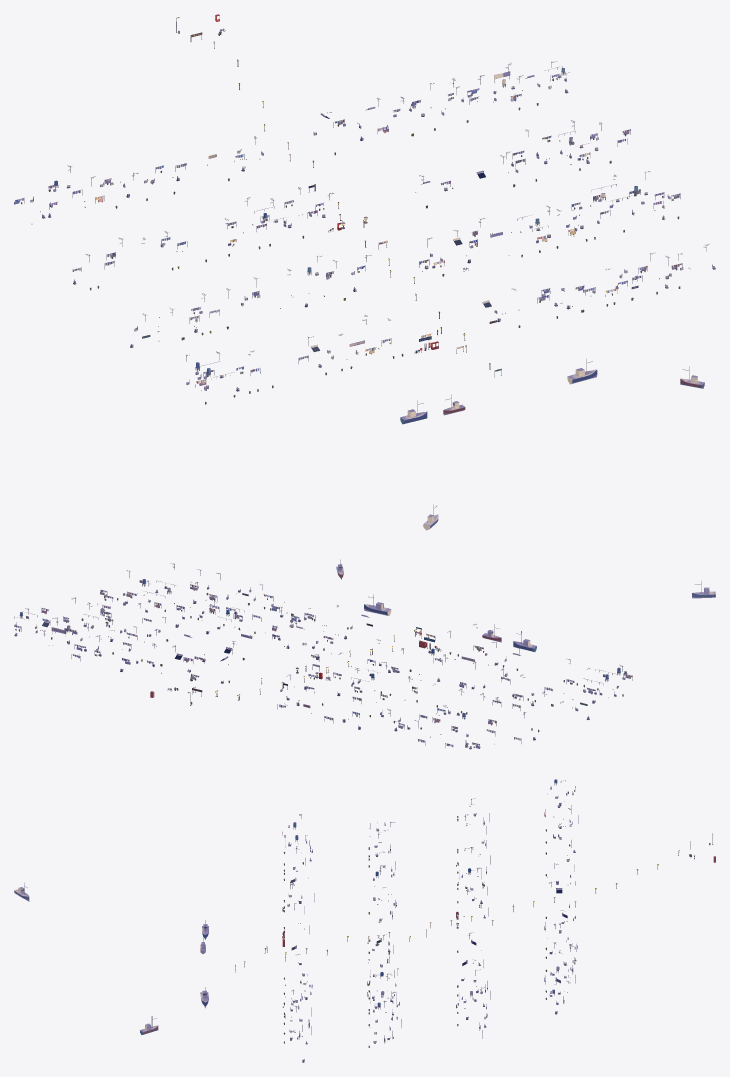
File: props.glb
The picture shows the model from 3 angles, top to bottom: view 1: azimuth 30°, elevation 25°; view 2: azimuth 150°, elevation 25°; view 3: azimuth 270°, elevation 25°; orthographic projection. The views are drawn at different scales.
Parts seen in each view (by area): view 1: piece_props; view 2: piece_props; view 3: piece_props.
Part boxes in pixels (x1=…): piece_props: x1=14, y1=14, x2=715, y2=530; piece_props: x1=14, y1=559, x2=715, y2=749; piece_props: x1=14, y1=779, x2=715, y2=1062.
Bounding box in the file's own units: 180 × 49.02 × 238.
6 materials, 1 textured.
